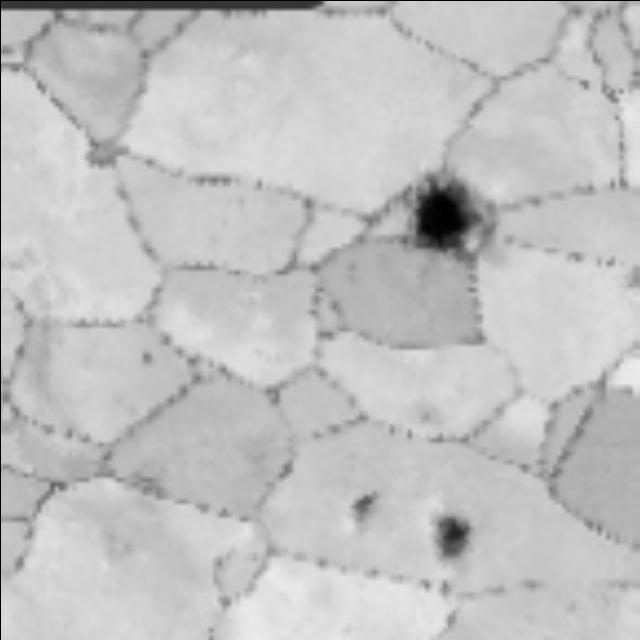good_void: (370, 143, 504, 289), (114, 456, 169, 513), (419, 510, 472, 563), (73, 128, 130, 175), (350, 491, 381, 528), (130, 339, 159, 373)
